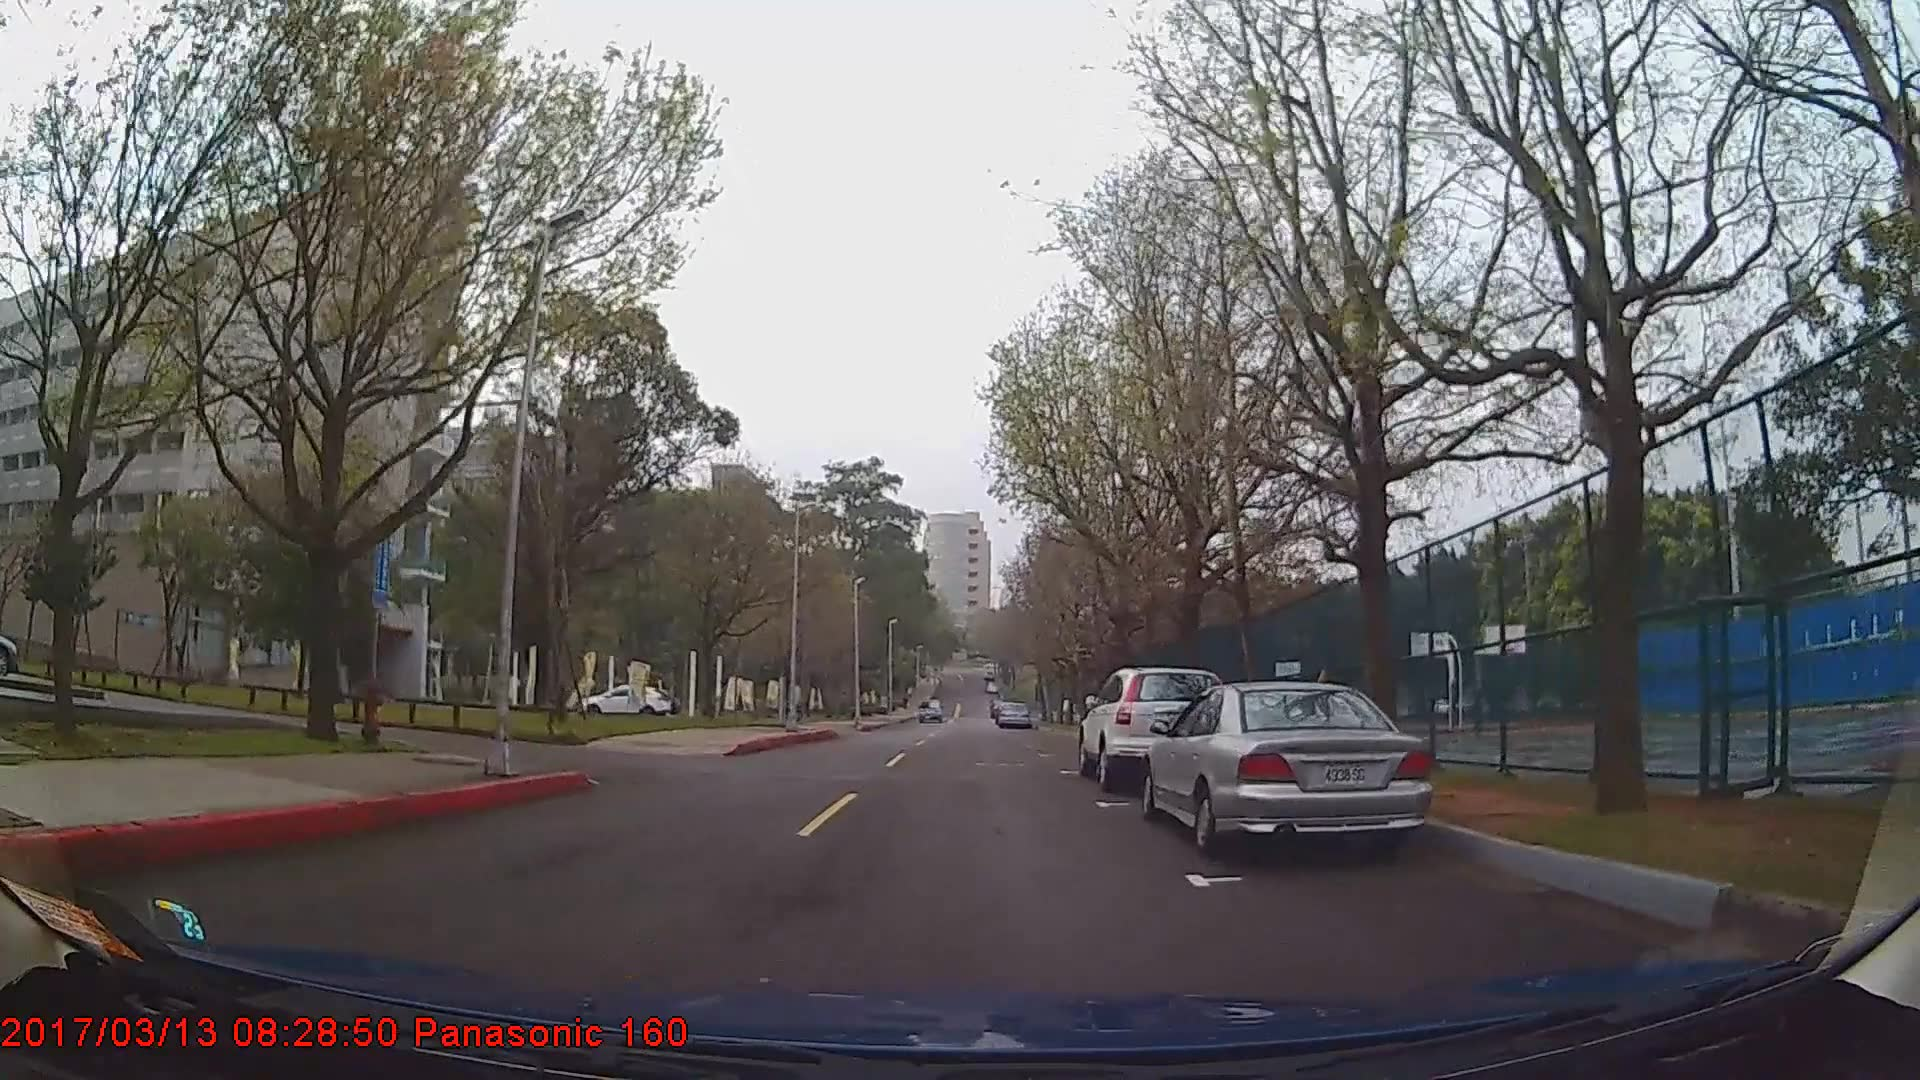vehicle: (1142, 679, 1429, 857), (1077, 666, 1228, 790), (576, 683, 673, 719), (994, 700, 1031, 729), (914, 698, 942, 724)
